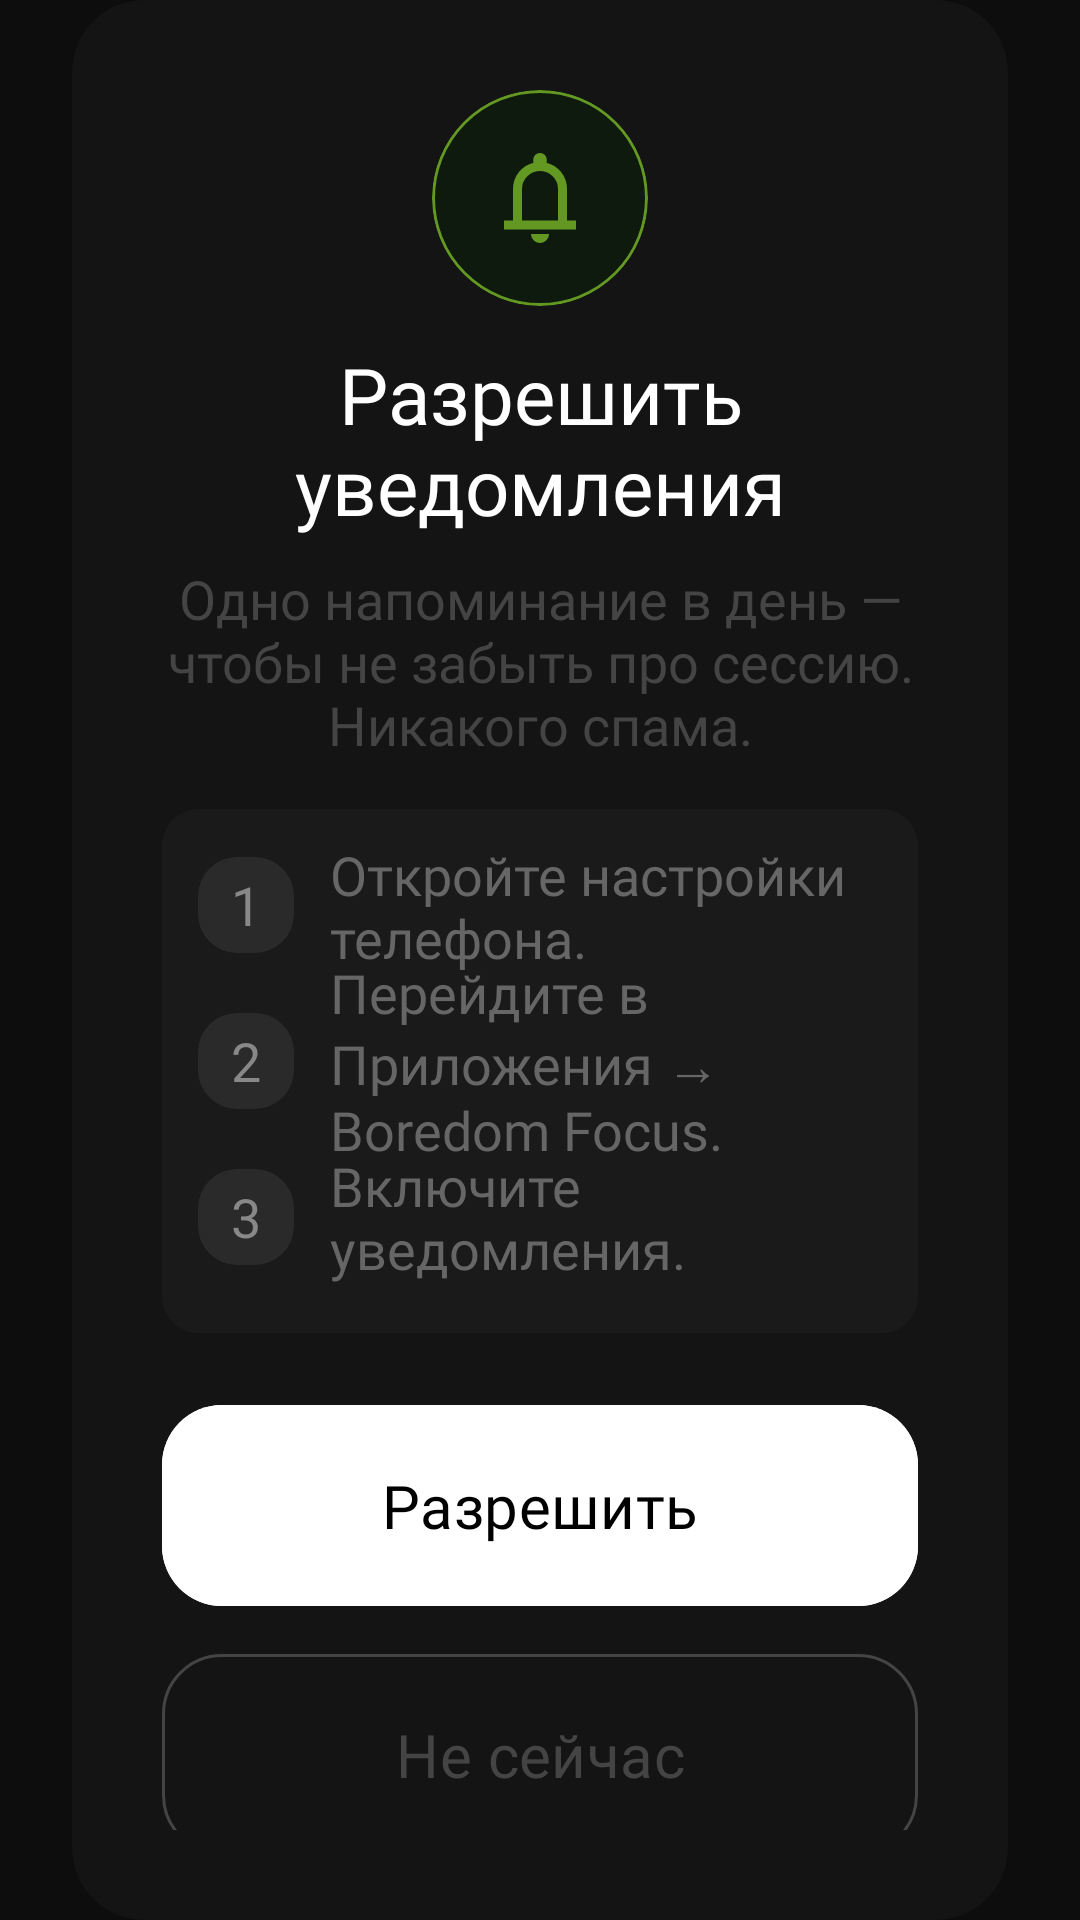

Where icons sit on this 1080×1920 app screen, as (x1, y1, x2, y2):
notification: (504, 153, 576, 243)
